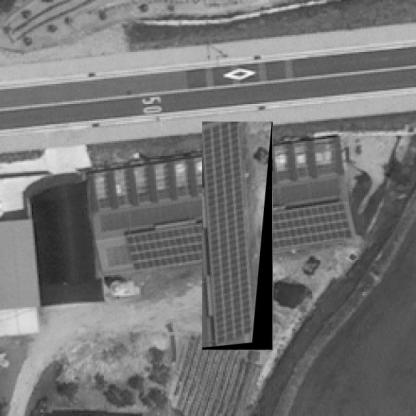solar-pv-panel: (202, 122, 257, 347)
